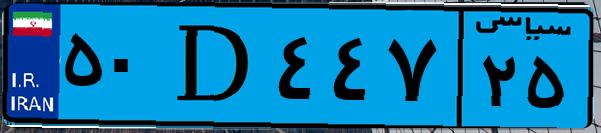0: (110, 28, 158, 98)
2: (475, 38, 525, 113)
4: (270, 28, 330, 110), (330, 28, 385, 110)
5: (57, 26, 110, 100), (525, 38, 570, 115)
7: (385, 28, 445, 110)
D: (158, 12, 270, 120)
